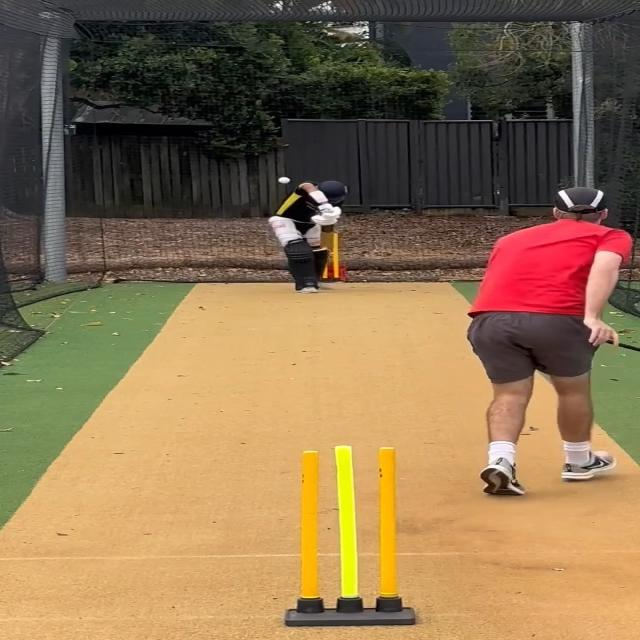ball: (277, 177, 290, 184)
stump: (284, 446, 414, 626)
